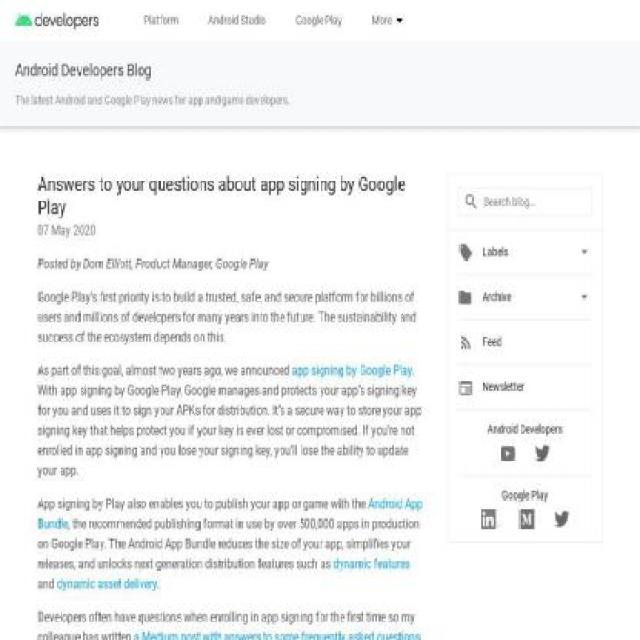button: (458, 376, 592, 398), (458, 332, 592, 353), (366, 0, 431, 22), (15, 13, 99, 27), (481, 509, 519, 529), (519, 509, 555, 529), (500, 443, 535, 463), (535, 443, 550, 463), (554, 509, 569, 529), (372, 13, 392, 27)
field: (458, 187, 592, 216)
